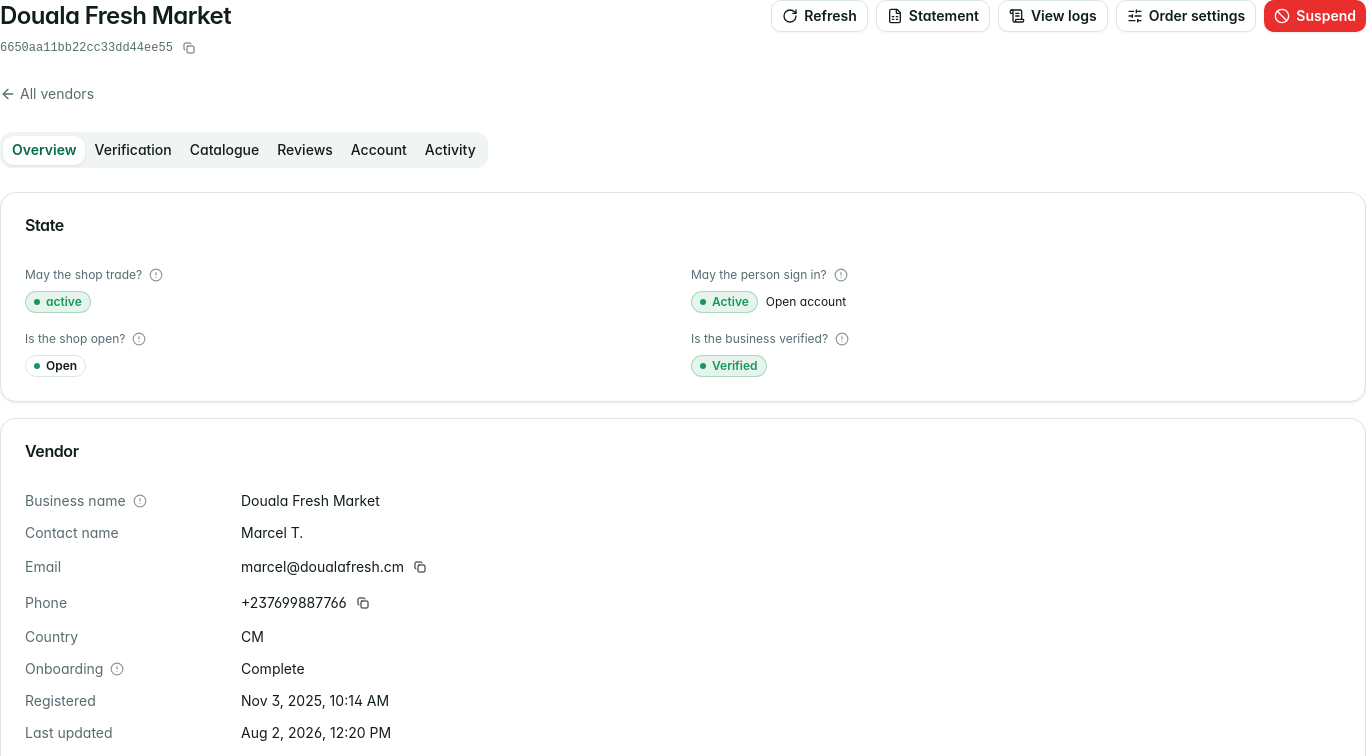
Test case: the cascade › states the blast radius before asking for a reason
The image size is (1366, 756).
Click the button "Suspend" at point(1315, 16), box [1264,0,1365,32]
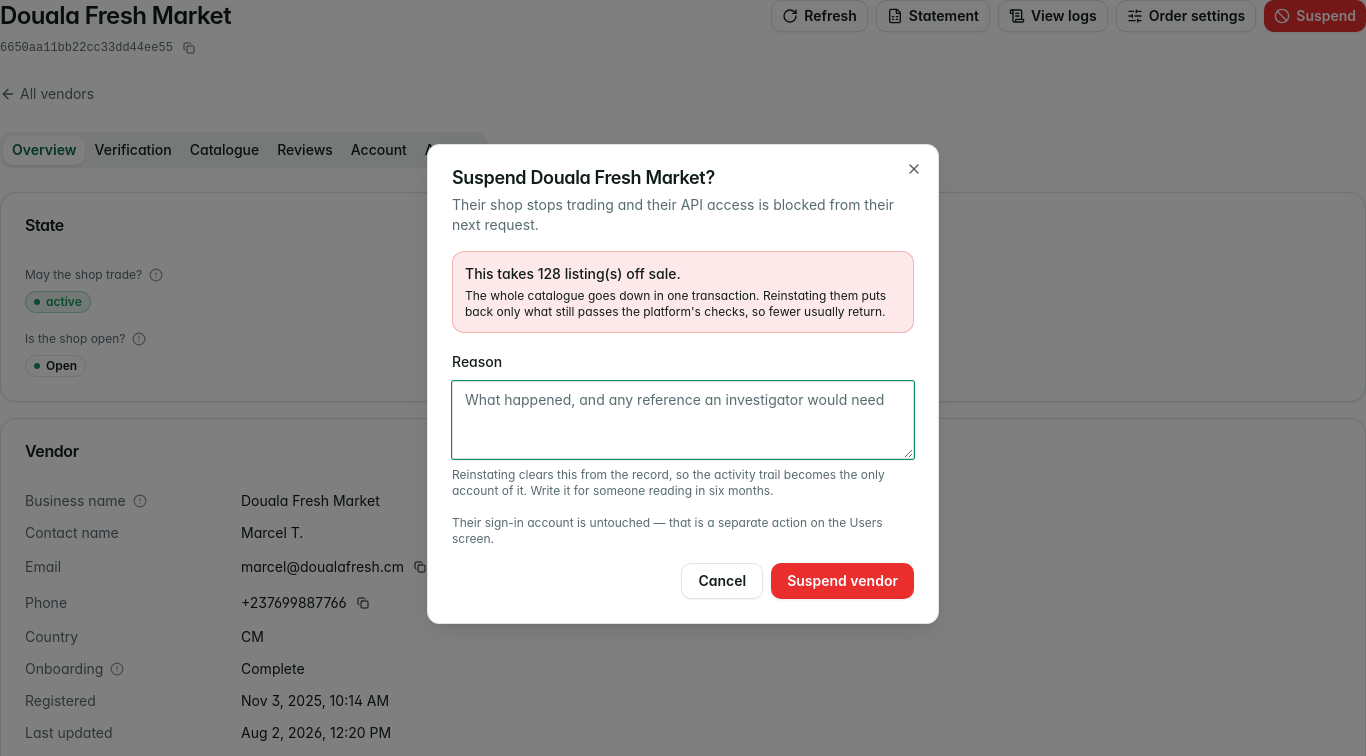
Check: the text "This takes 128 listing(s) off sale." is shown, box [465,265,681,282]
